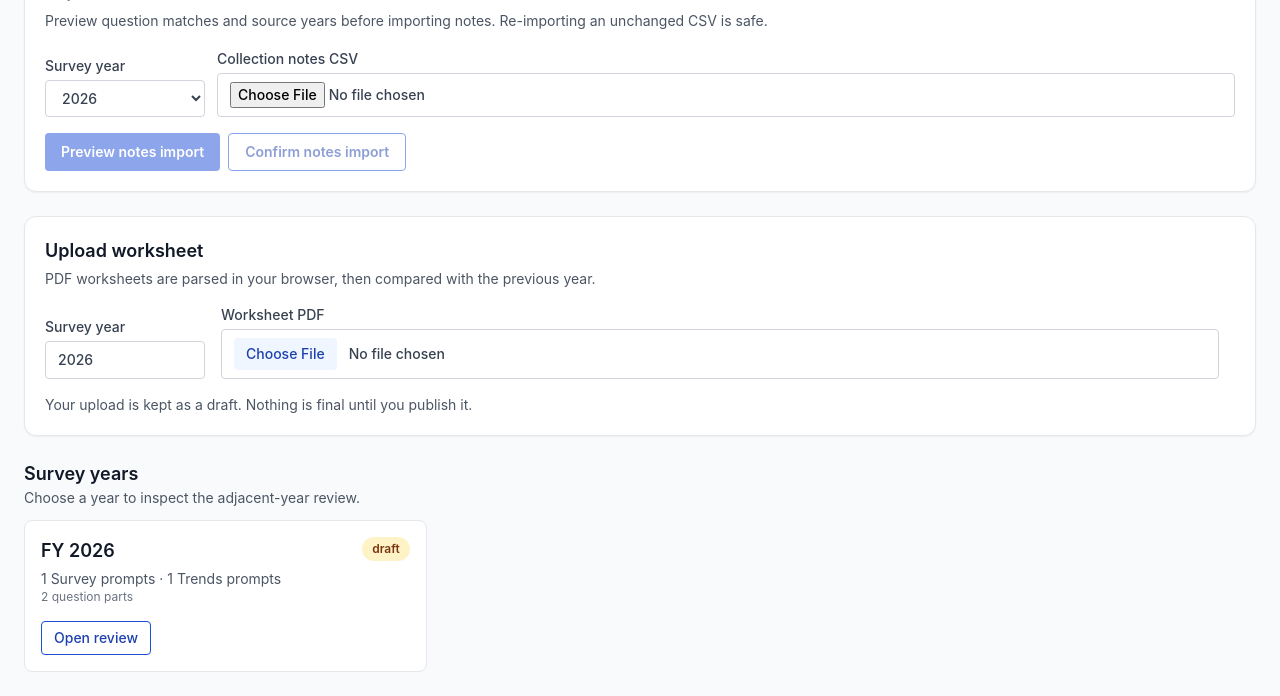
Test case: ACRL catalogue page › shows assignment copy results after publishing a year
(page scrolled)
Step 1. Click the button "Open review" → [96, 638], box [41, 621, 151, 655]
(page scrolled)
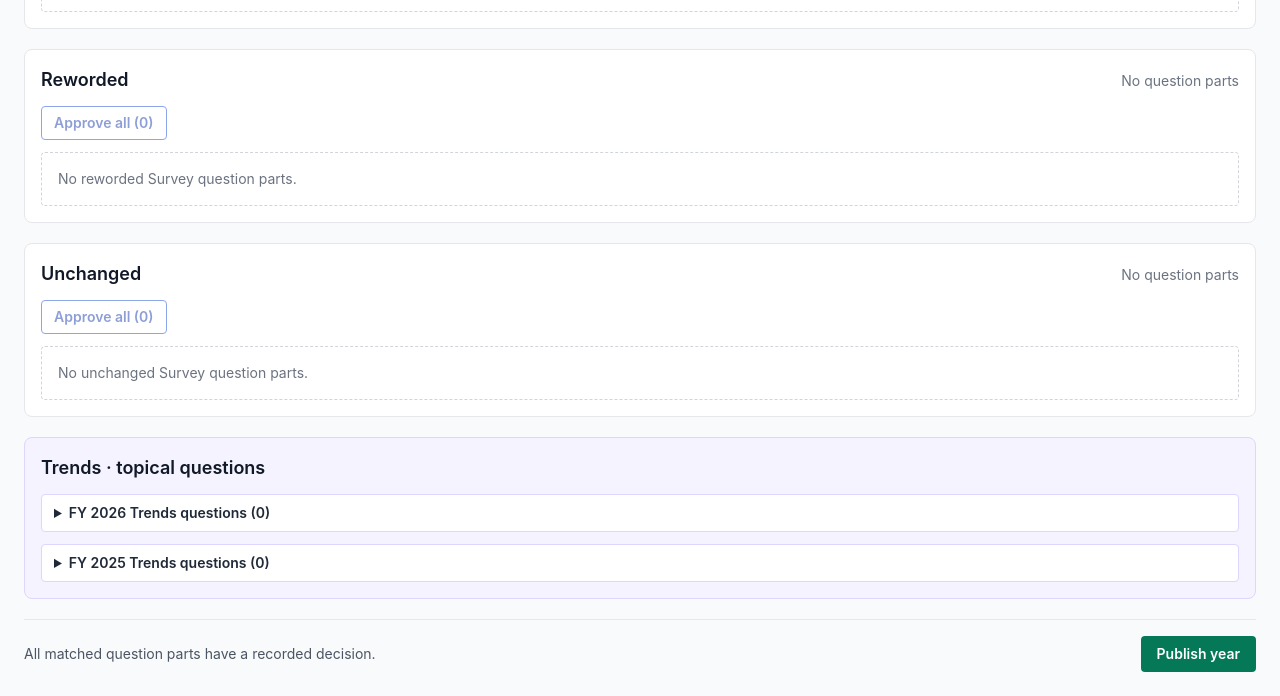
Step 2. Click the button "Publish year" → [1198, 654], box [1140, 636, 1256, 672]
(page scrolled)
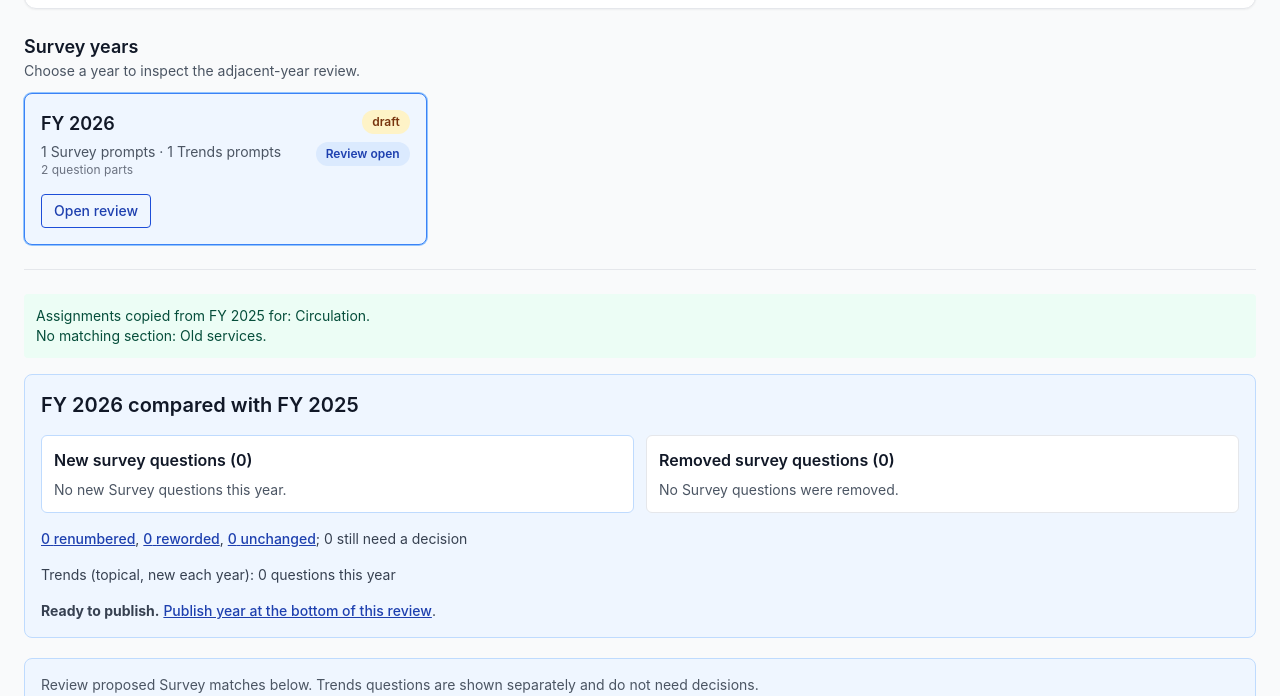
Expected: the text "Assignments copied from FY 2025 for: Circulation." is shown, [36, 307, 370, 324]
Expected: the text "No matching section: Old services." is shown, [36, 327, 267, 344]
